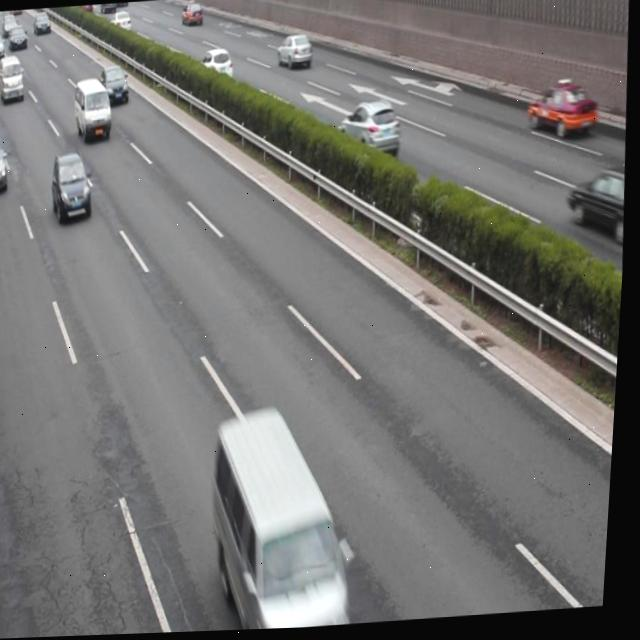car: (563, 166, 630, 248), (524, 83, 600, 149), (339, 97, 403, 163), (52, 148, 97, 223), (194, 47, 235, 90), (275, 34, 312, 72), (100, 62, 131, 104), (0, 135, 11, 196)
truck: (210, 404, 367, 633), (73, 75, 116, 143), (0, 52, 28, 103)
